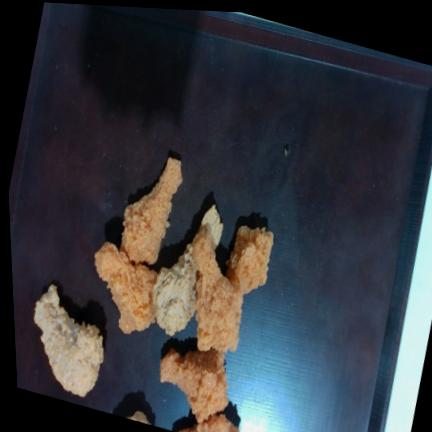chicken: (34, 285, 104, 397), (121, 157, 182, 264), (193, 235, 243, 353), (95, 242, 157, 334), (161, 348, 229, 423), (153, 243, 198, 336), (226, 225, 273, 294), (197, 205, 223, 250)
